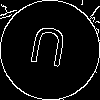U: (25, 25, 69, 77)
